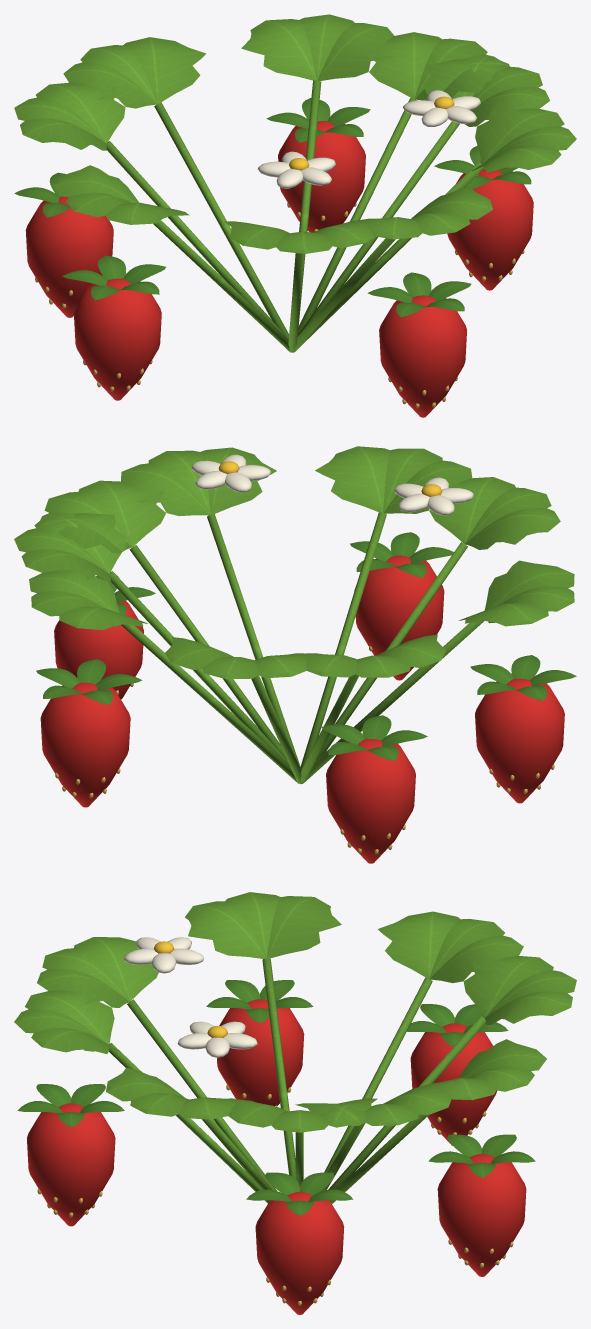
The model's file is crop-strawberry-ripe.glb.
3 views of the same model, one above another, from view 1: azimuth 30°, elevation 25°; view 2: azimuth 150°, elevation 25°; view 3: azimuth 270°, elevation 25° (orthographic). The views are drawn at different scales.
Visible parts, largest first — view 1: crop_strawberry_ripe; view 2: crop_strawberry_ripe; view 3: crop_strawberry_ripe.
Boxes of the visible parts, x1,y1,x2,y2 form: crop_strawberry_ripe: (14, 14, 576, 417); crop_strawberry_ripe: (14, 446, 576, 863); crop_strawberry_ripe: (14, 892, 576, 1314).
Bounding box in the file's own units: 0.655 × 0.3277 × 0.6474.
Materials: 6 (2 with a texture image).
